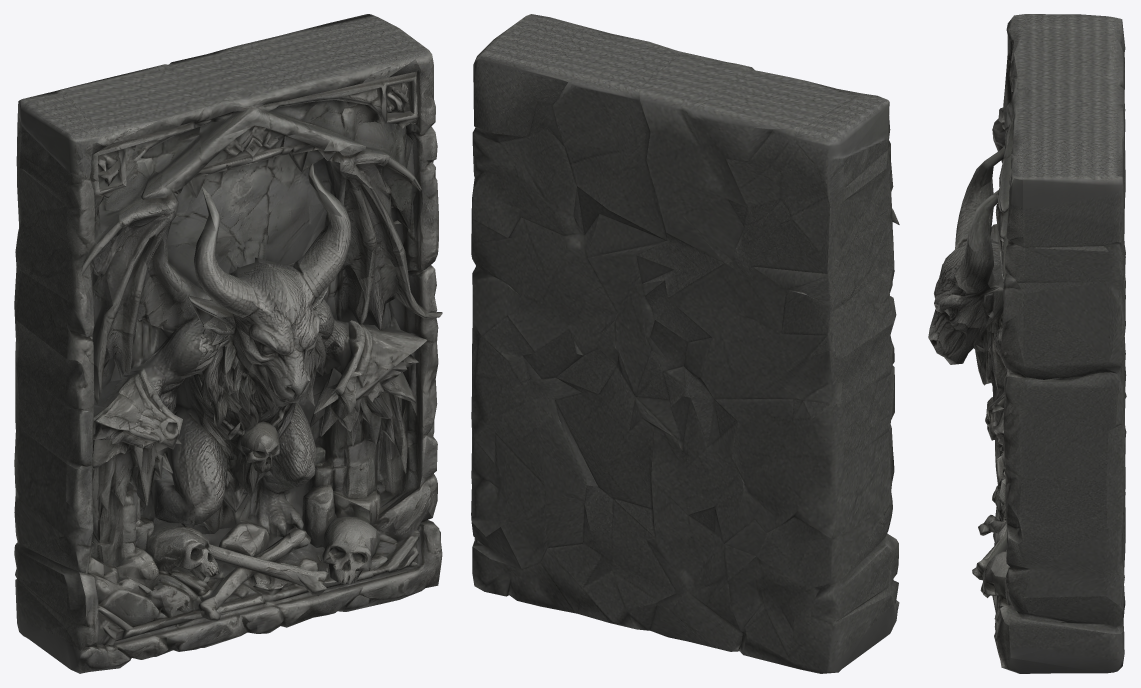
Rendered from Decoration_demon_2.glb.
The picture shows the model from 3 angles, left to right: view 1: azimuth 30°, elevation 25°; view 2: azimuth 150°, elevation 25°; view 3: azimuth 270°, elevation 25°; orthographic projection. The views are drawn at different scales.
Visible parts, largest first — view 1: Mesh_0; view 2: Mesh_0; view 3: Mesh_0.
Part boxes in pixels (x1,y1,x2,y2): Mesh_0: (14, 14, 442, 673); Mesh_0: (471, 14, 899, 673); Mesh_0: (928, 14, 1126, 673).
Bounding box in the file's own units: 1.36 × 1.9 × 0.6807.
1 material, 1 textured.
